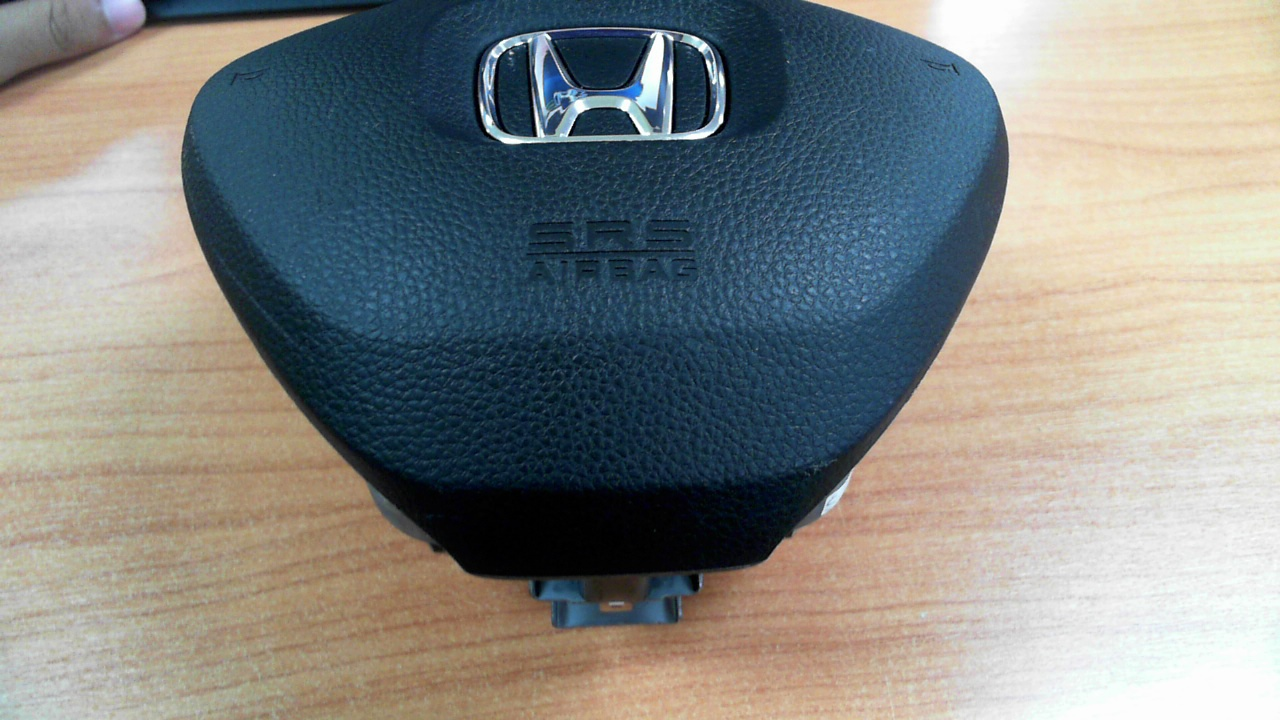Airbag: (180, 0, 1011, 631)
Honda: (477, 26, 727, 145)
